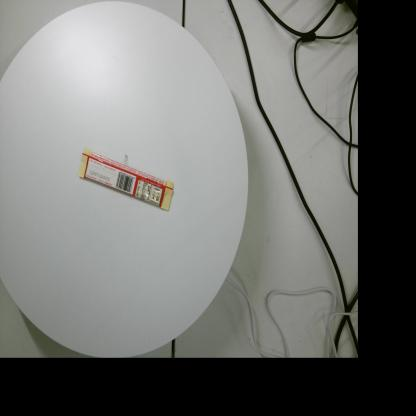Chocolate: (78, 147, 174, 211)
